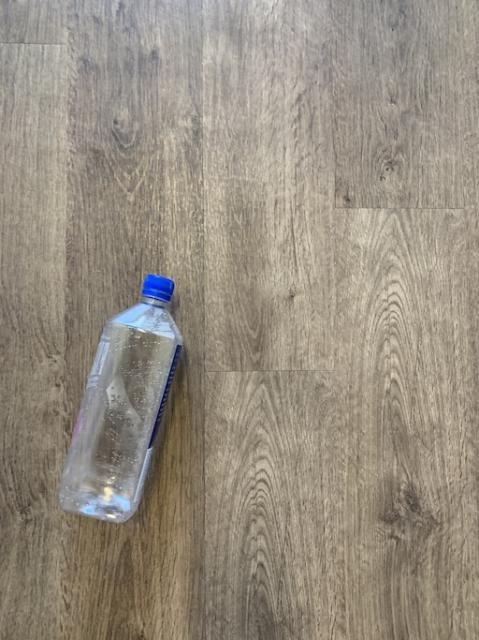plastic: (56, 274, 181, 521)
